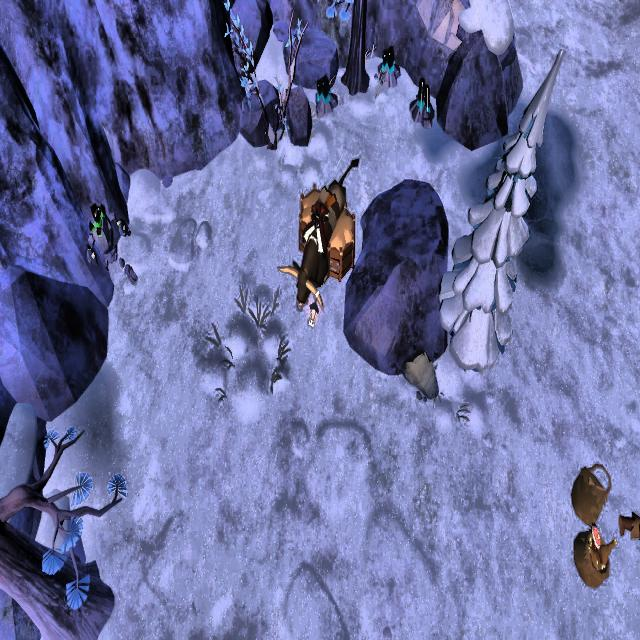ore_t4: (413, 73, 432, 114), (314, 71, 331, 108), (378, 44, 396, 75)
